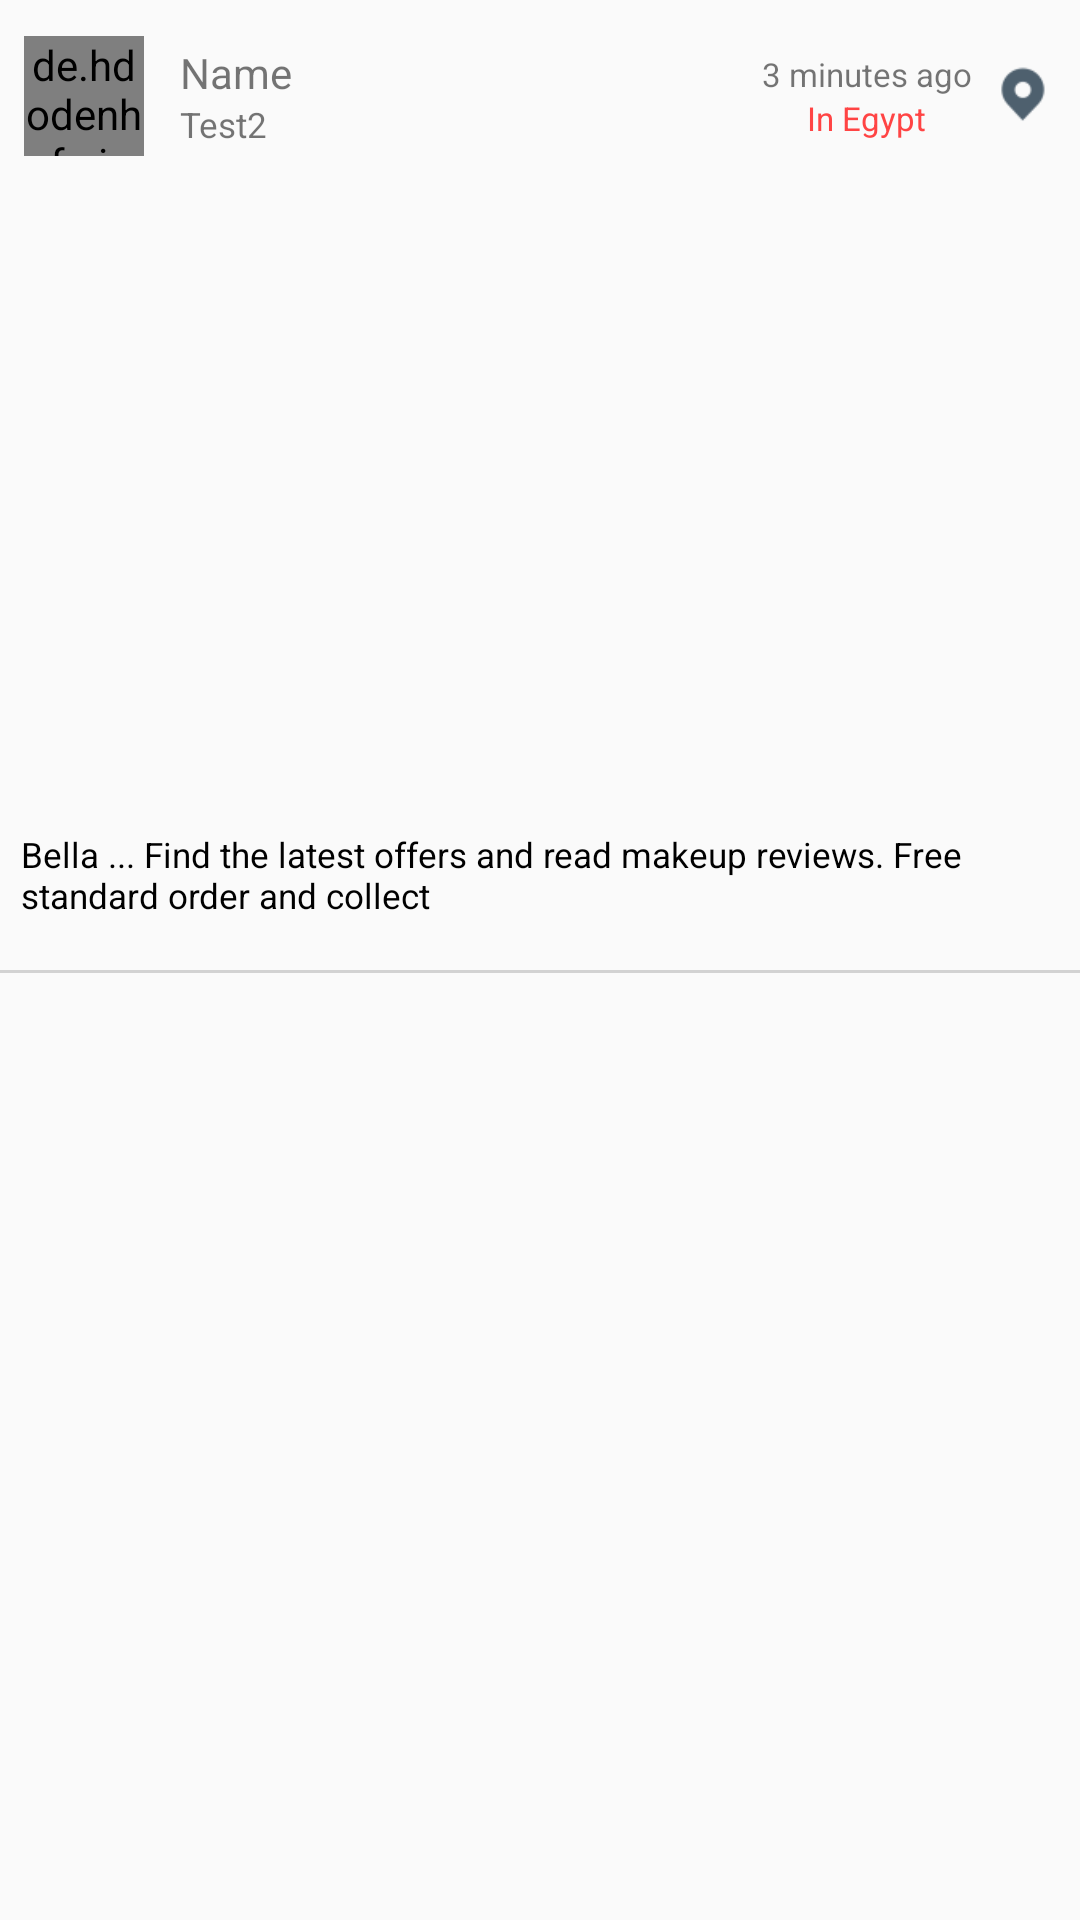

Locate icon controls on the screen. Image size 1080px×1920px, boxes as [x1=x1, y1=y1, x2=x2, y2=y2].
location: [x1=1001, y1=67, x2=1045, y2=121]
